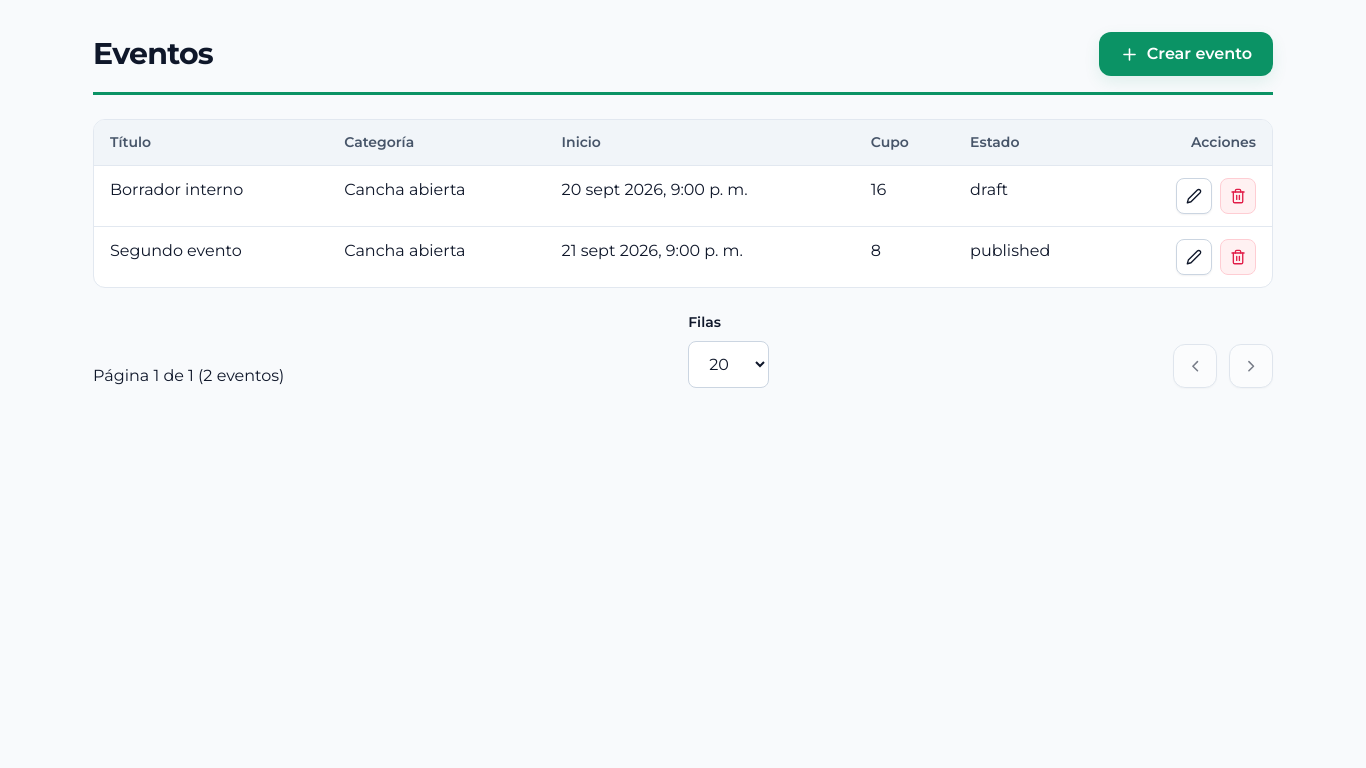
Test: EventsList › closes with Escape, restores focus, and clears roster state for the next event
The image size is (1366, 768).
Click the button named "Ver/editar" in the row of "Borrador interno". click: (1194, 196)
box: left=1176, top=178, right=1212, bottom=214
(page scrolled)
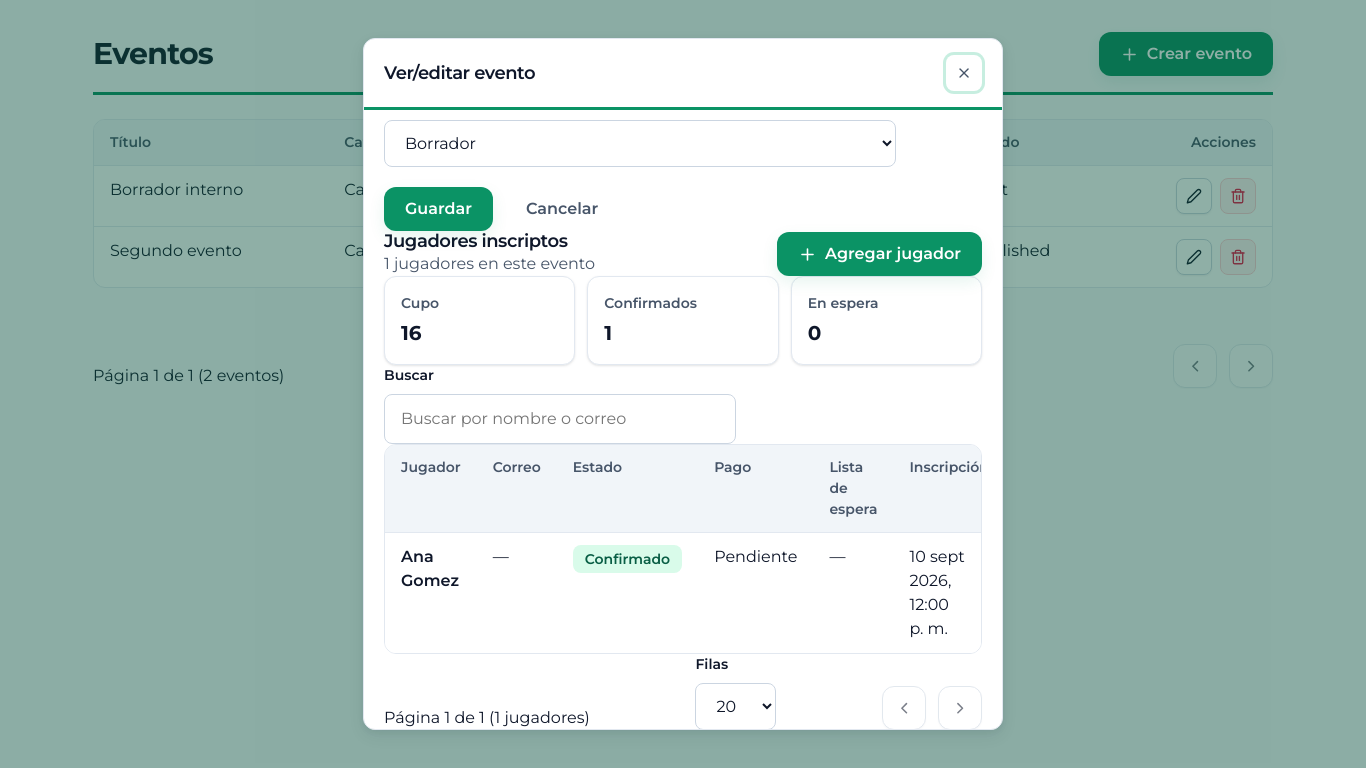
Expected: the text "Ana Gomez" is shown, left=401, top=547, right=459, bottom=590
Type "Ana" into the field with placeholder "Buscar por nombre o correo". click: (560, 419)
box: left=384, top=394, right=736, bottom=444
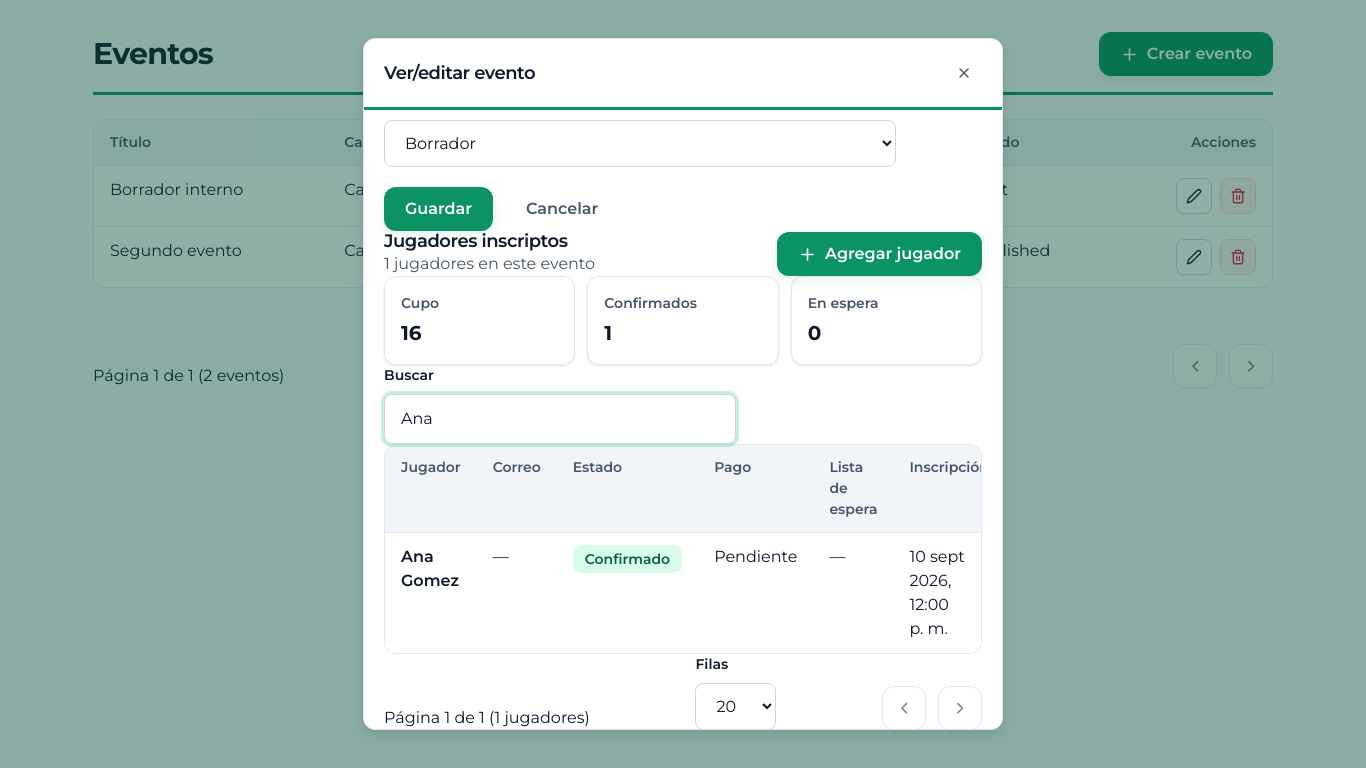
Press Escape
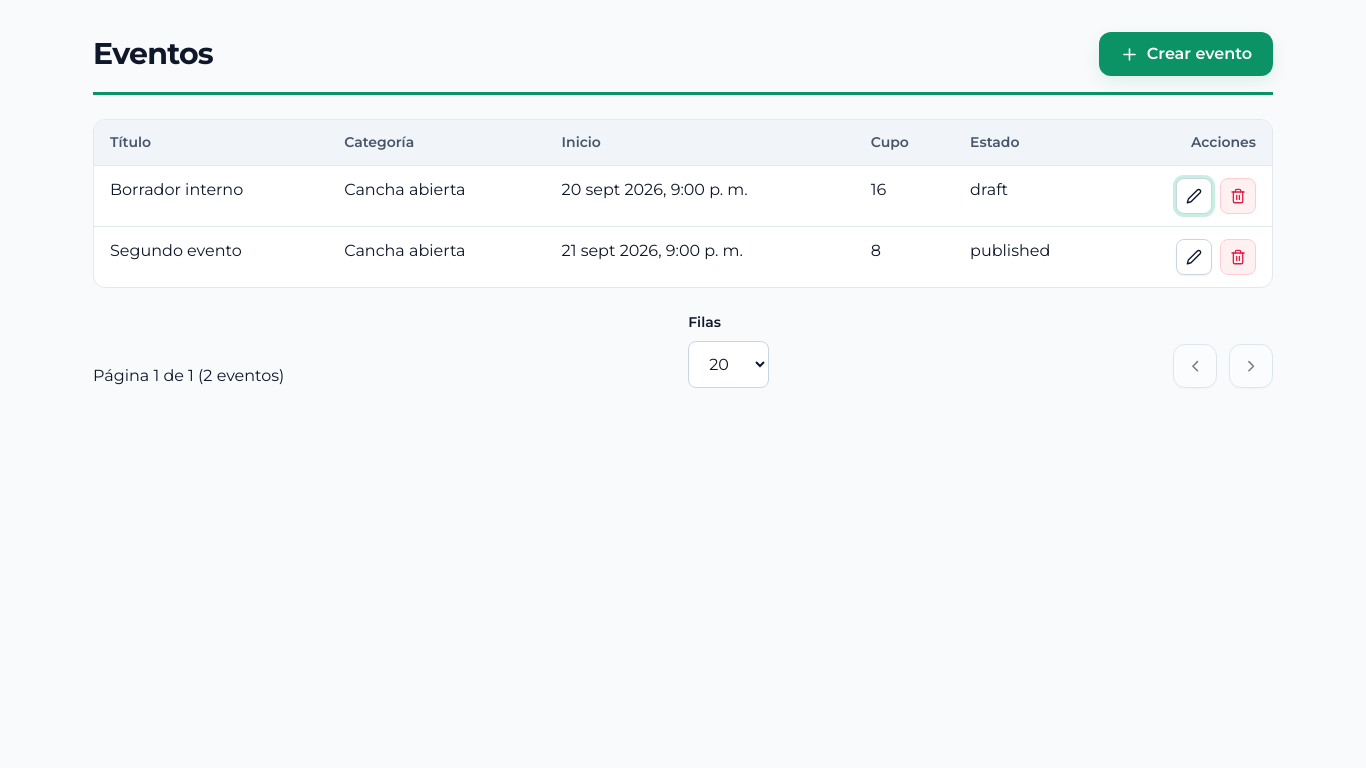
Expected: the heading "Ver/editar evento" is gone
Click the button named "Ver/editar" in the row of "Segundo evento". click: (1194, 257)
box: left=1176, top=239, right=1212, bottom=275
(page scrolled)
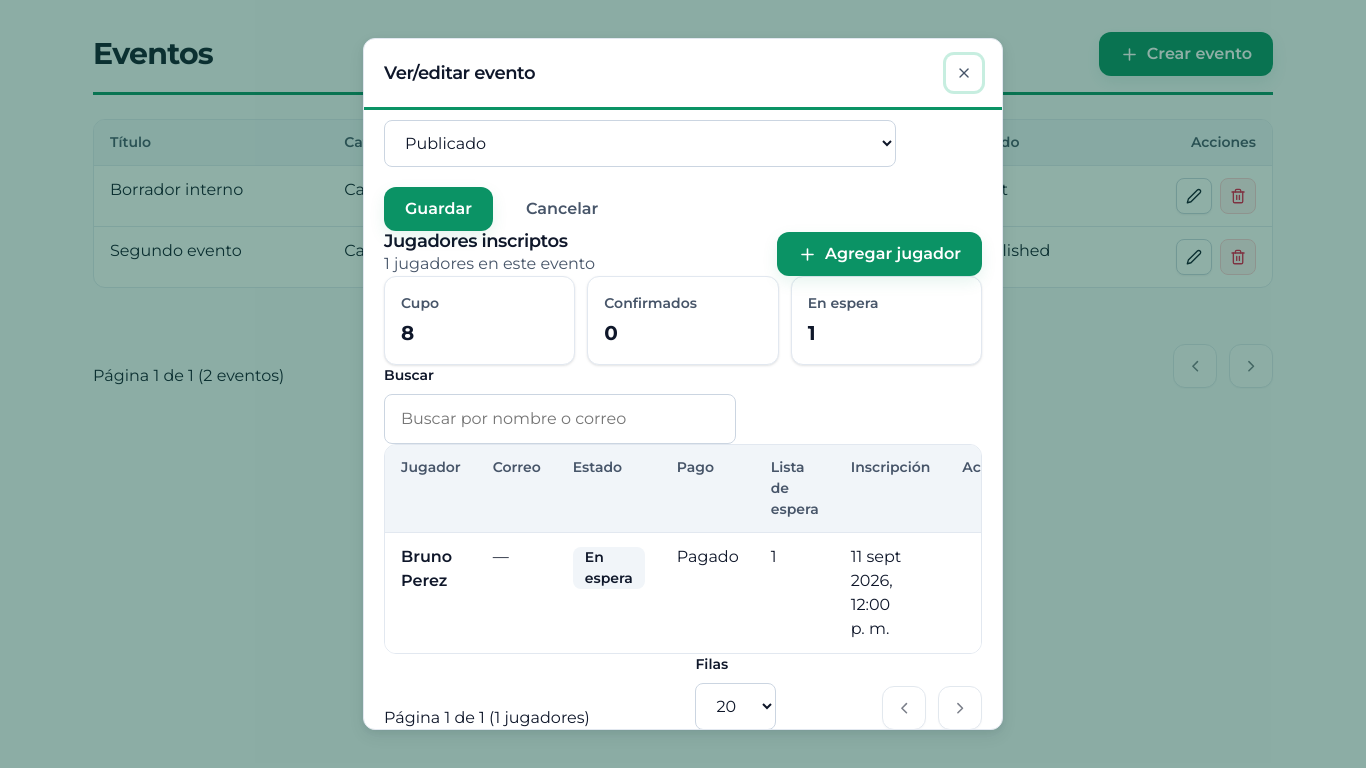
Expected: the text "Ana Gomez" is not shown
Expected: the text "Bruno Perez" is shown, left=401, top=547, right=452, bottom=590
Expected: the field with placeholder "Buscar por nombre o correo" is empty, left=384, top=394, right=736, bottom=444
